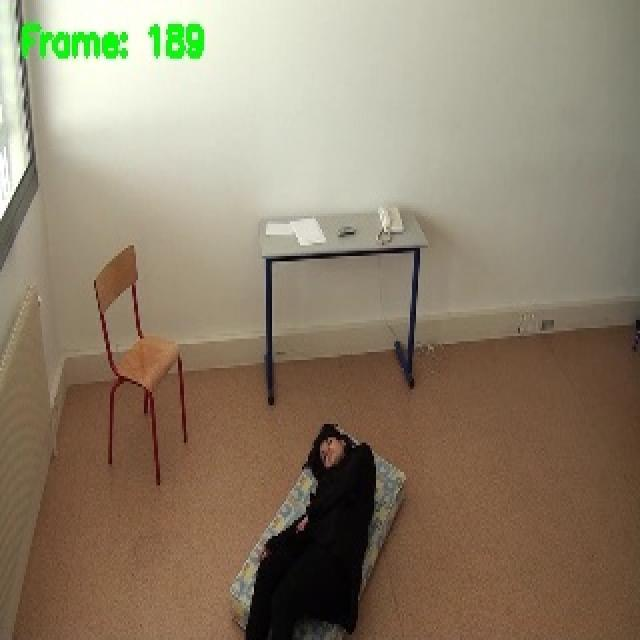fall: (240, 415, 386, 640)
